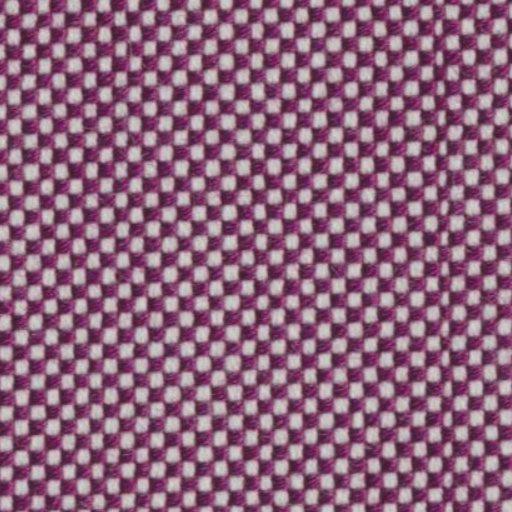TuoSha: (406, 14, 480, 502)
